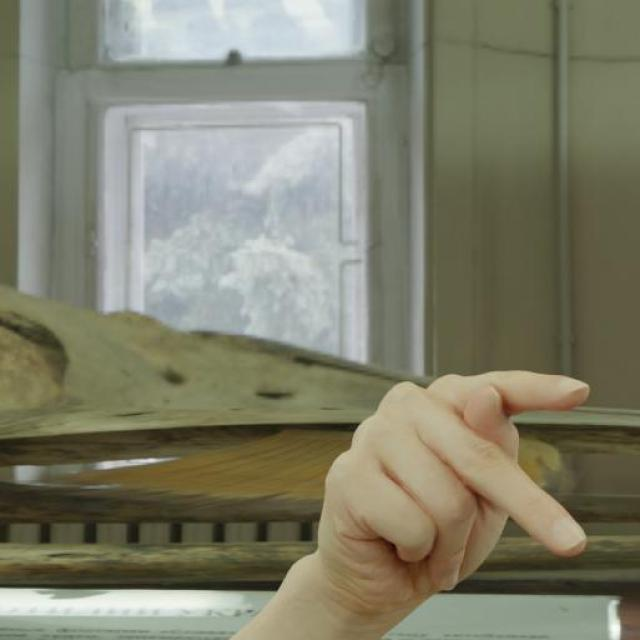P: (309, 365, 599, 640)
